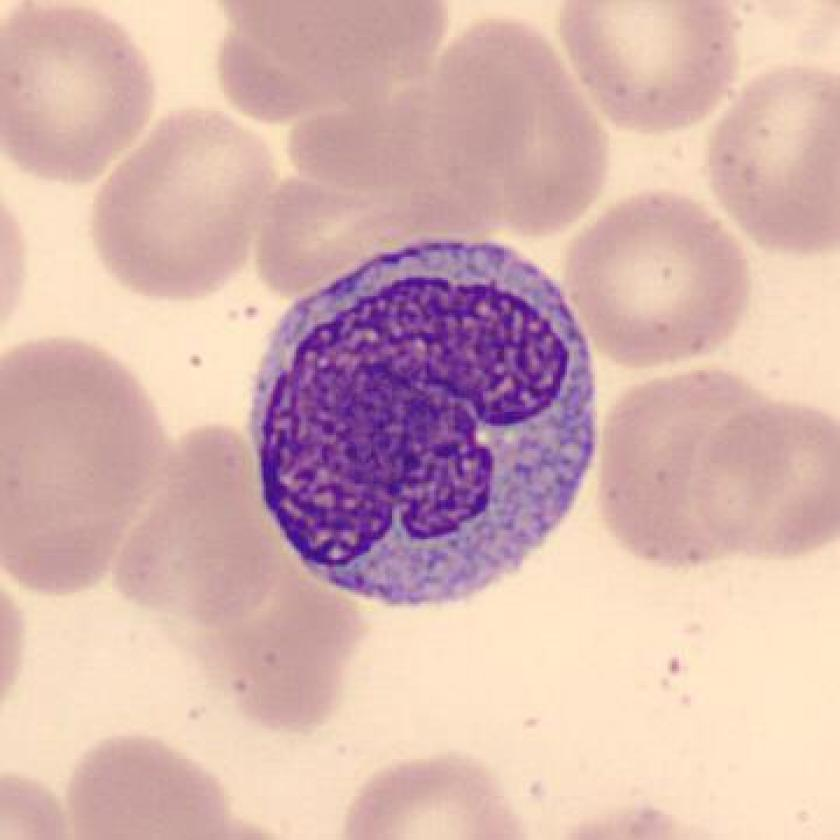monocyte: (225, 221, 619, 628)
